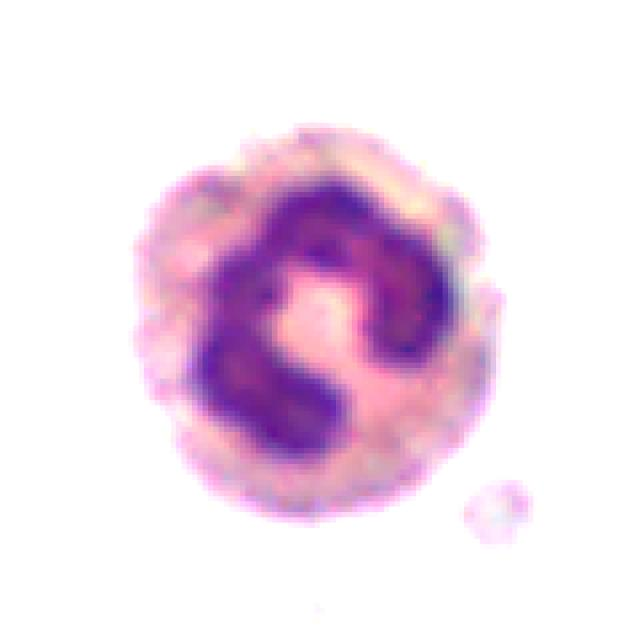WBC: (128, 96, 523, 549)
